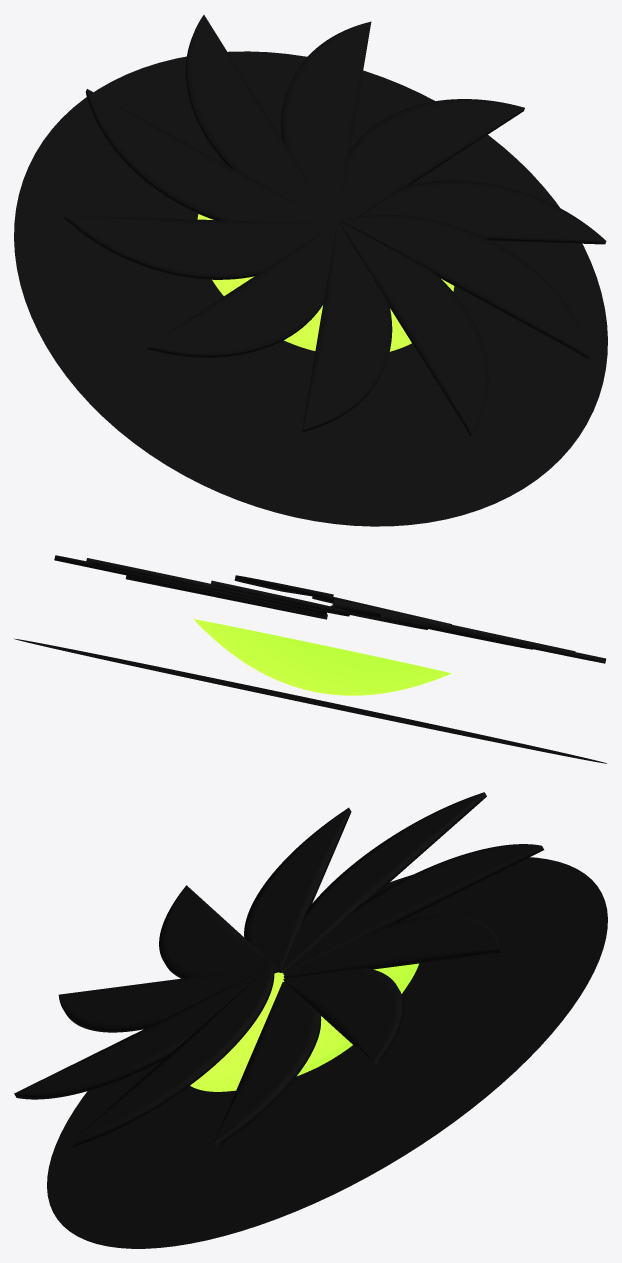
3 renders of one model, top to bottom at view 1: azimuth 30°, elevation 25°; view 2: azimuth 150°, elevation 25°; view 3: azimuth 270°, elevation 25°, orthographic. The views are drawn at different scales.
Visible parts, largest first — view 1: shibori_backing, shibori_blade_09, shibori_blade_05, shibori_blade_08, shibori_blade_06, shibori_blade_04, shibori_blade_07, shibori_blade_01, shibori_blade_03, shibori_blade_02, shibori_blade_00, shibori_dish; view 2: shibori_dish, shibori_backing, shibori_blade_02, shibori_blade_01, shibori_blade_03, shibori_blade_06, shibori_blade_05, shibori_blade_00, shibori_blade_09, shibori_blade_04, shibori_blade_07, shibori_blade_08; view 3: shibori_backing, shibori_blade_09, shibori_blade_03, shibori_blade_04, shibori_blade_02, shibori_blade_00, shibori_blade_08, shibori_blade_05, shibori_blade_01, shibori_blade_07, shibori_blade_06, shibori_dish.
Part boxes in pixels (bbox=[...]): shibori_backing: bbox=[14, 51, 607, 526]; shibori_blade_09: bbox=[341, 214, 589, 358]; shibori_blade_05: bbox=[64, 215, 334, 279]; shibori_blade_08: bbox=[339, 222, 488, 436]; shibori_blade_06: bbox=[147, 224, 336, 357]; shibori_blade_04: bbox=[85, 89, 333, 223]; shibori_blade_07: bbox=[302, 223, 392, 432]; shibori_blade_01: bbox=[337, 99, 524, 223]; shibori_blade_03: bbox=[185, 15, 334, 223]; shibori_blade_02: bbox=[281, 21, 371, 225]; shibori_blade_00: bbox=[360, 180, 606, 244]; shibori_dish: bbox=[197, 214, 454, 351]; shibori_dish: bbox=[194, 619, 451, 695]; shibori_backing: bbox=[14, 638, 606, 763]; shibori_blade_02: bbox=[86, 558, 326, 614]; shibori_blade_01: bbox=[54, 555, 326, 616]; shibori_blade_03: bbox=[210, 580, 349, 616]; shibori_blade_06: bbox=[334, 601, 606, 663]; shibori_blade_05: bbox=[332, 604, 533, 649]; shibori_blade_00: bbox=[125, 575, 327, 619]; shibori_blade_09: bbox=[234, 575, 333, 599]; shibori_blade_04: bbox=[331, 605, 428, 629]; shibori_blade_07: bbox=[334, 599, 575, 651]; shibori_blade_08: bbox=[312, 596, 451, 624]; shibori_backing: bbox=[47, 857, 607, 1248]; shibori_blade_09: bbox=[69, 964, 274, 1147]; shibori_blade_03: bbox=[283, 844, 543, 975]; shibori_blade_04: bbox=[282, 792, 486, 972]; shibori_blade_02: bbox=[283, 914, 501, 978]; shibori_blade_00: bbox=[214, 982, 321, 1147]; shibori_blade_08: bbox=[14, 965, 274, 1099]; shibori_blade_05: bbox=[244, 807, 351, 973]; shibori_blade_01: bbox=[283, 968, 403, 1065]; shibori_blade_07: bbox=[58, 966, 277, 1032]; shibori_blade_06: bbox=[159, 885, 279, 978]; shibori_dish: bbox=[190, 963, 418, 1091].
Size of the model in its own units: 1.84 by 1.09 by 1.72.
